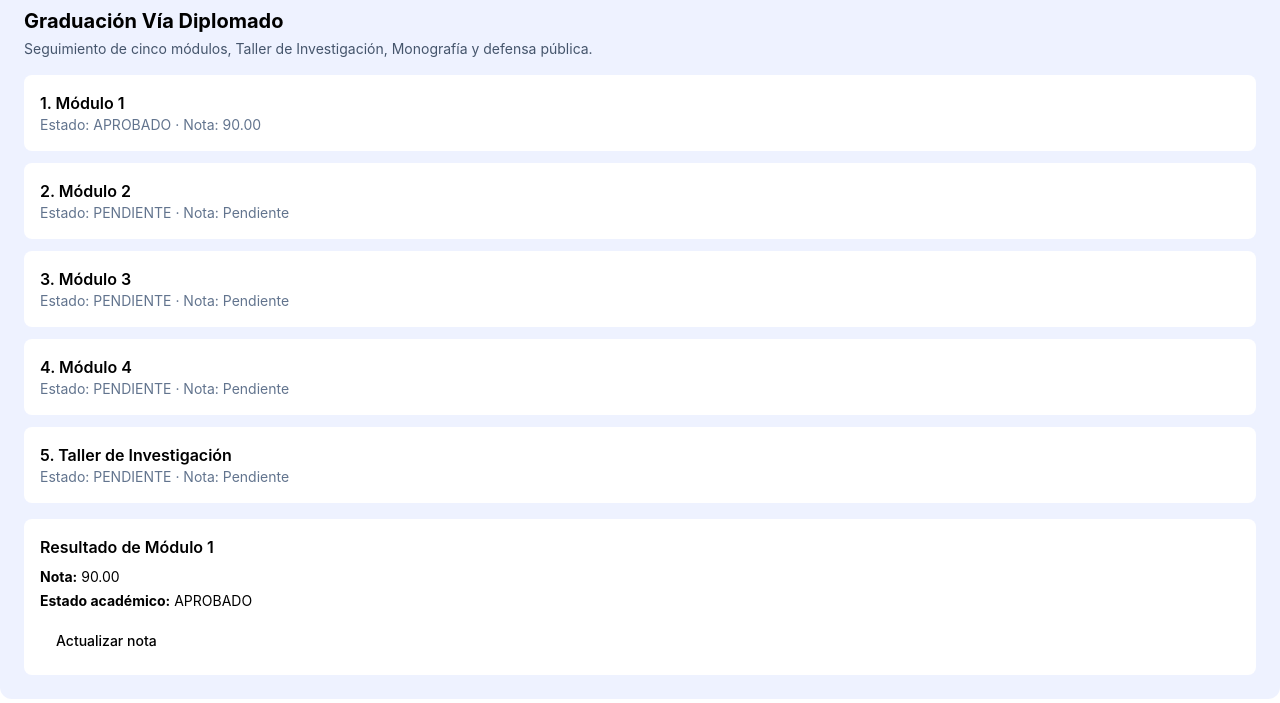
Test: Diplomado › actualiza, recarga y muestra el resultado persistido con éxito
Click the button "Actualizar nota".
click(106, 641)  # box [40,623,173,659]
(page scrolled)
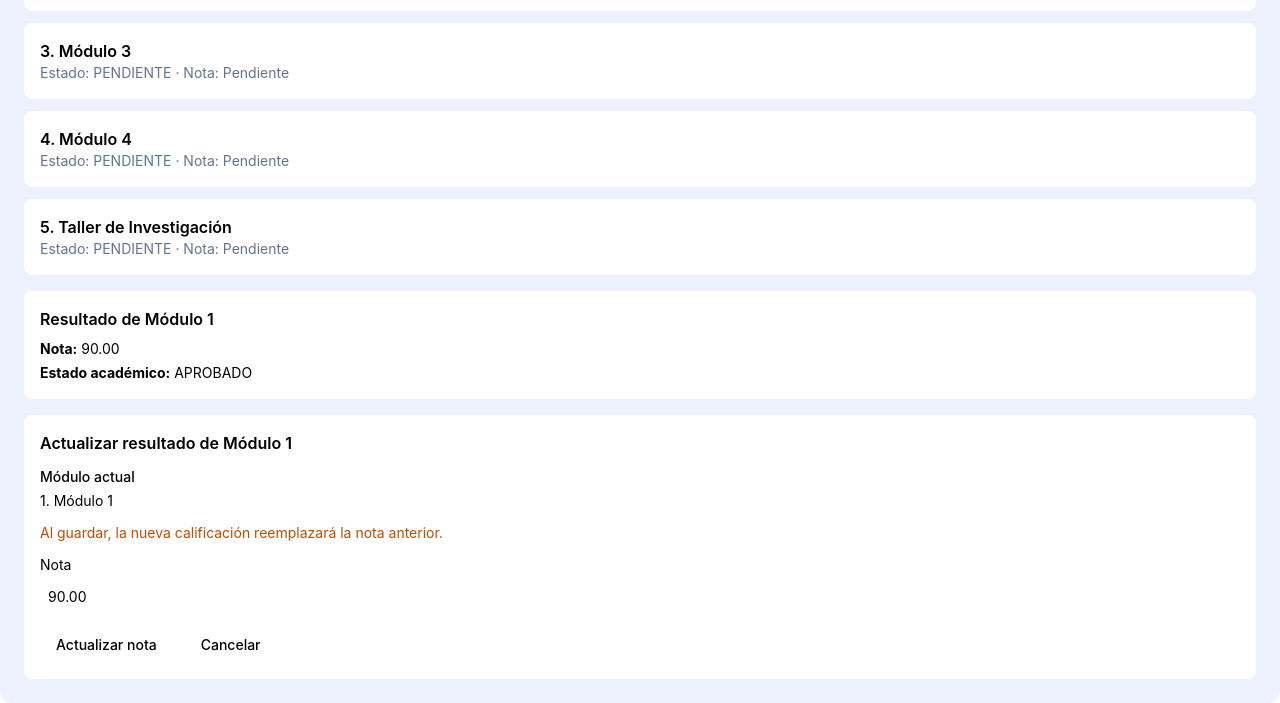
Replace the text in the number field labelled "Nota" with "95" at {"x": 640, "y": 597}, box [40,579,1240,615]
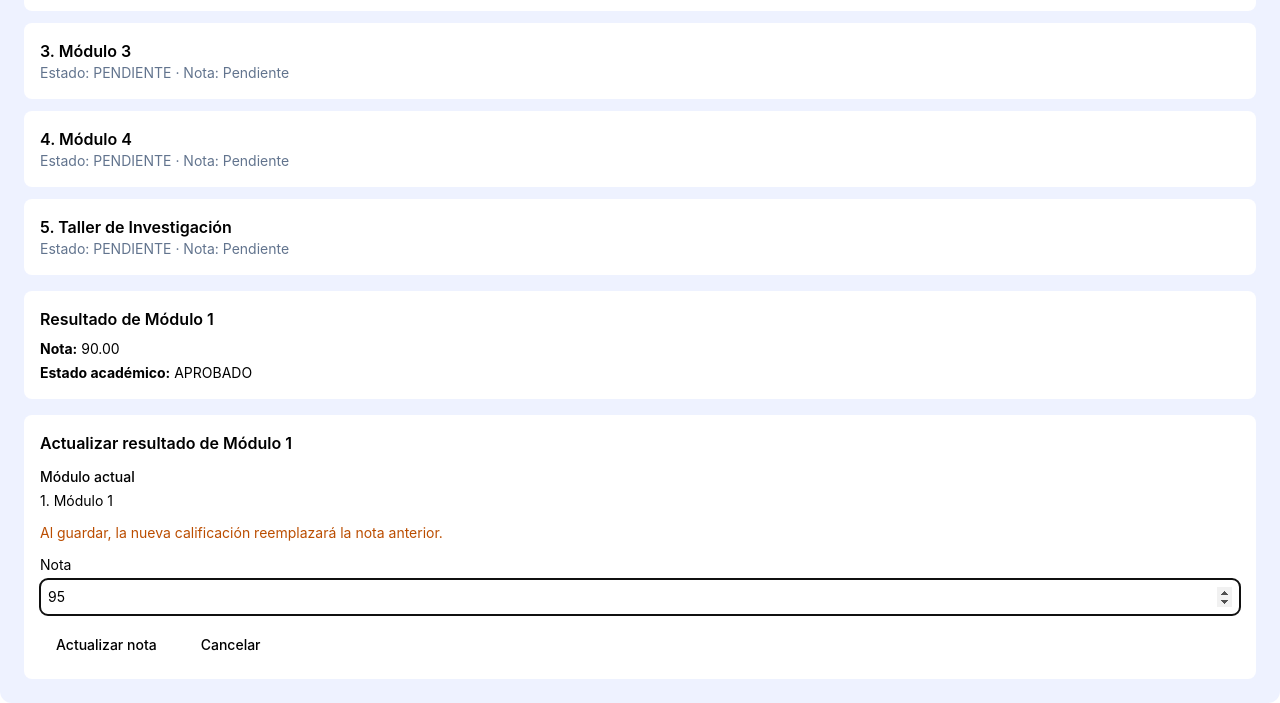
Click the button "Actualizar nota".
click(106, 645)  # box [40,627,173,663]
(page scrolled)
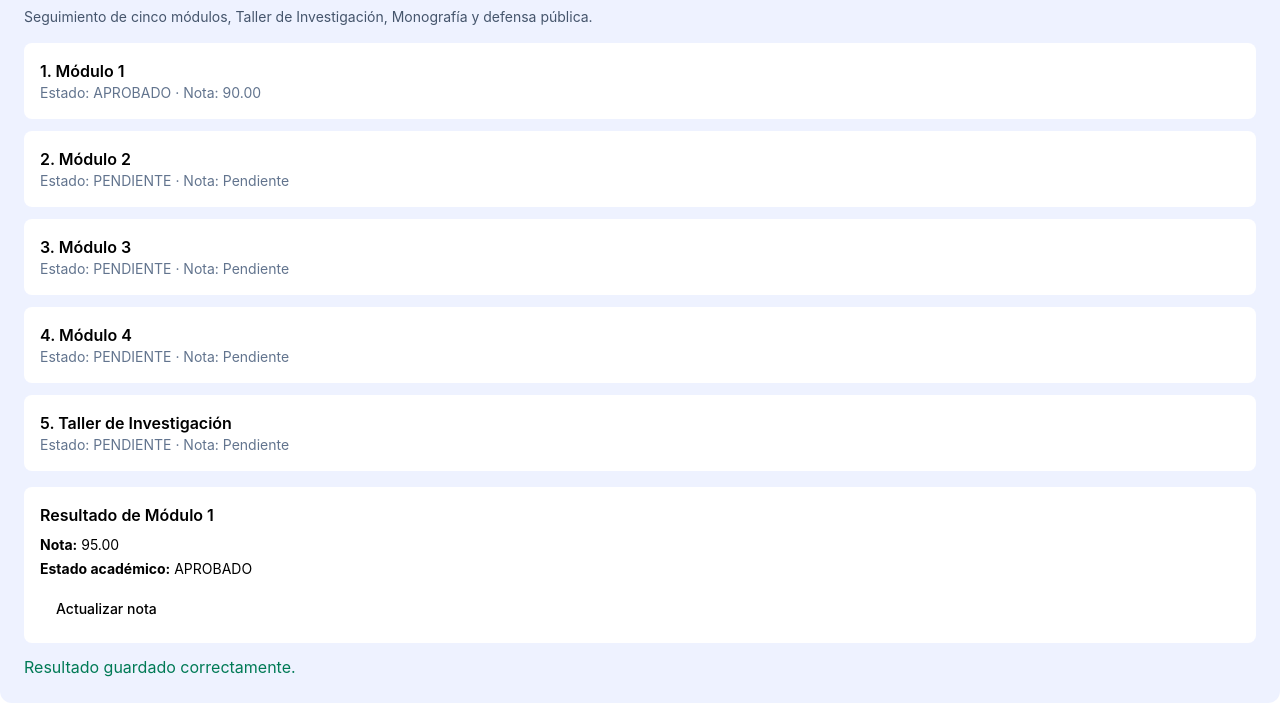
Expected: the message reads "Resultado guardado correctamente.", [24,657,296,677]
Expected: the text "95.00" is shown, [81,536,119,553]
